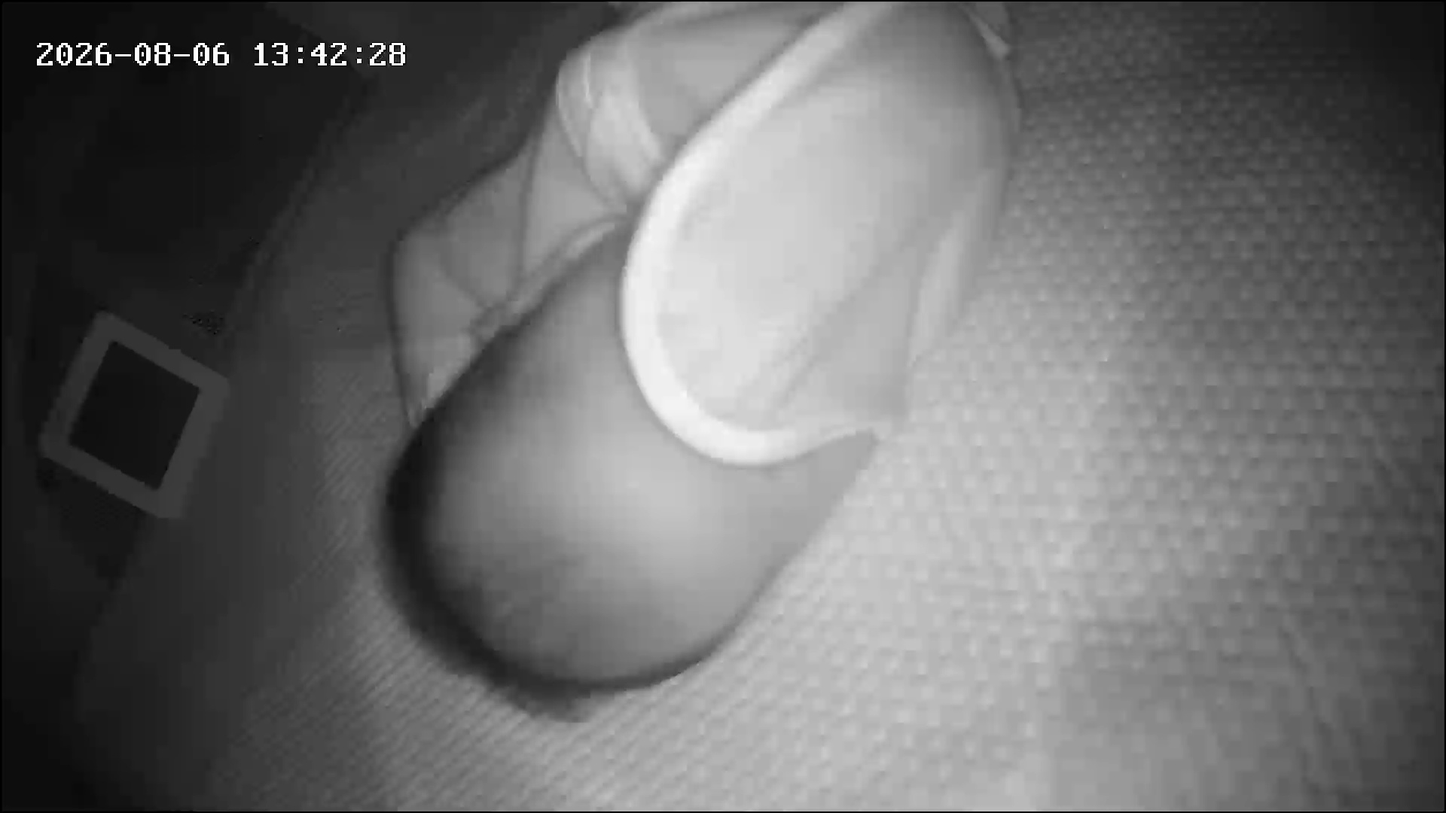baby: (379, 0, 1042, 725)
baby_face: (372, 216, 871, 709)
